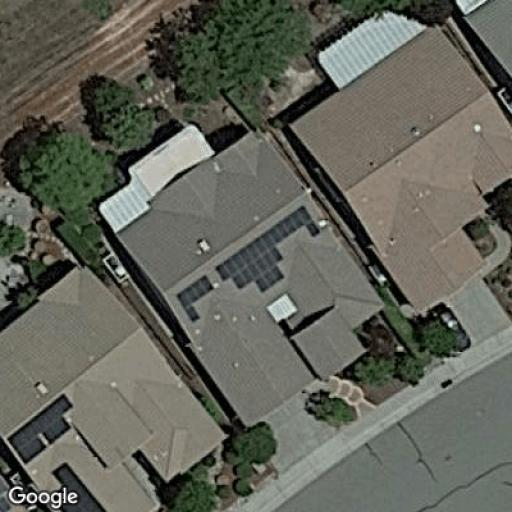solar-panel: (216, 205, 322, 293), (7, 393, 74, 464), (48, 461, 108, 512), (176, 273, 216, 322)
